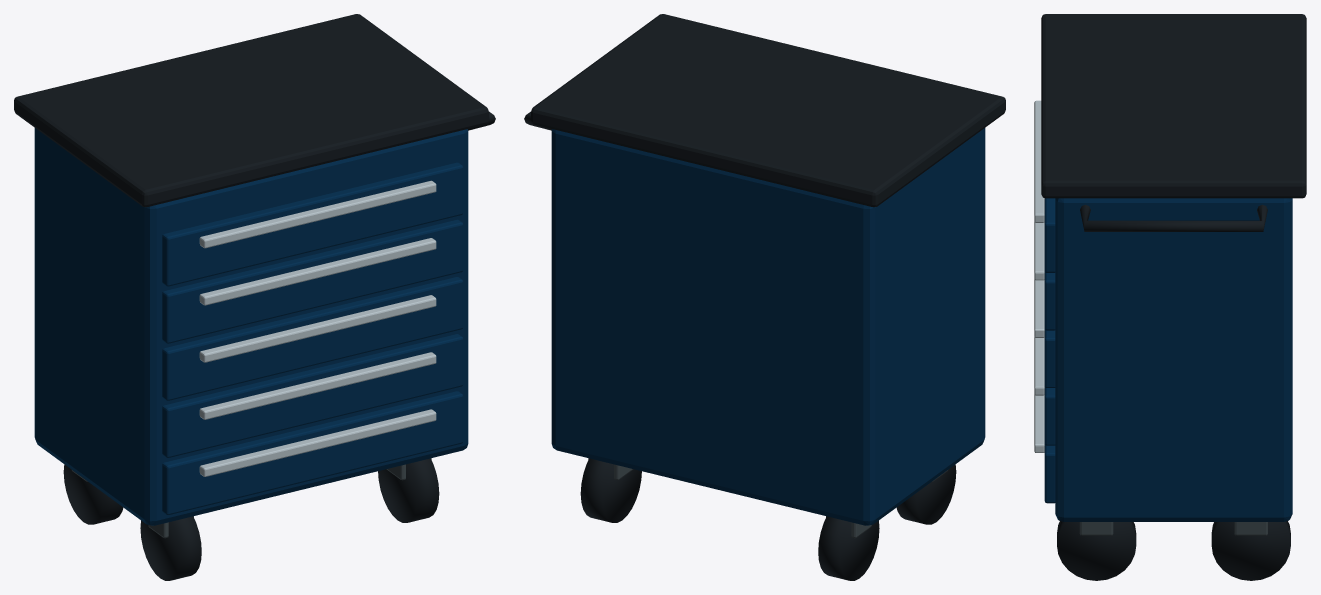
File: PROP_ToolCart.glb
3 renders of one model, left to right at view 1: azimuth 30°, elevation 25°; view 2: azimuth 150°, elevation 25°; view 3: azimuth 270°, elevation 25°, orthographic.
Visible parts, largest first — view 1: PROP_ToolCart; view 2: PROP_ToolCart; view 3: PROP_ToolCart.
Part boxes in pixels (bbox=[...]): PROP_ToolCart: bbox=[14, 14, 495, 580]; PROP_ToolCart: bbox=[524, 14, 1005, 580]; PROP_ToolCart: bbox=[1034, 14, 1306, 580].
Bounding box in the file's own units: 0.7857 × 0.8385 × 0.4925.
Materials: 1 (1 with a texture image).
